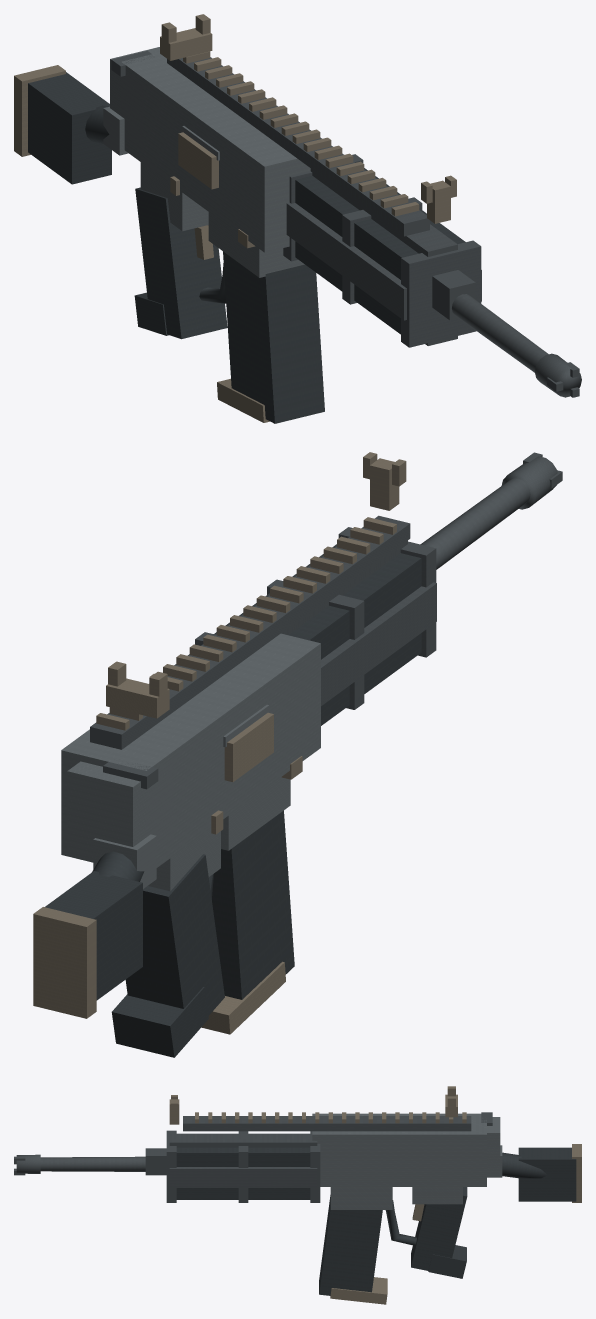
The model's file is service-carbine.glb.
3 views of the same model, one above another, from view 1: azimuth 30°, elevation 25°; view 2: azimuth 150°, elevation 25°; view 3: azimuth 270°, elevation 25° (orthographic). The views are drawn at different scales.
Parts seen in each view (by area): view 1: Service carbine mesh; view 2: Service carbine mesh; view 3: Service carbine mesh.
Part boxes in pixels (x1,y1,x2,y2): Service carbine mesh: (14, 14, 581, 423); Service carbine mesh: (33, 452, 562, 1057); Service carbine mesh: (14, 1086, 581, 1304).
Bounding box in the file's own units: 0.129 × 0.3187 × 0.807.
Materials: 4 (4 with a texture image).
